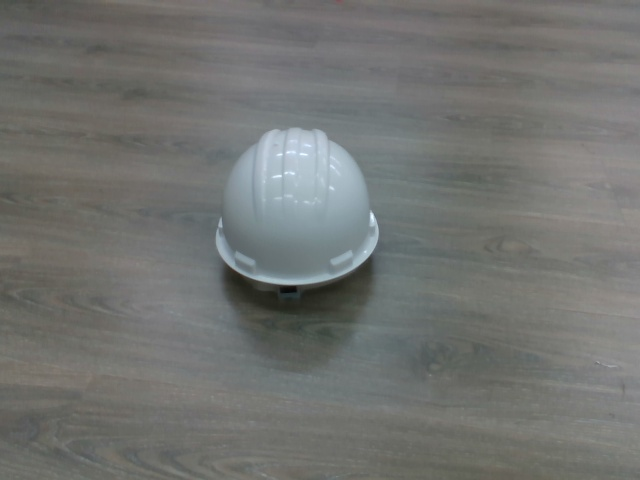helmet: (212, 125, 384, 299)
